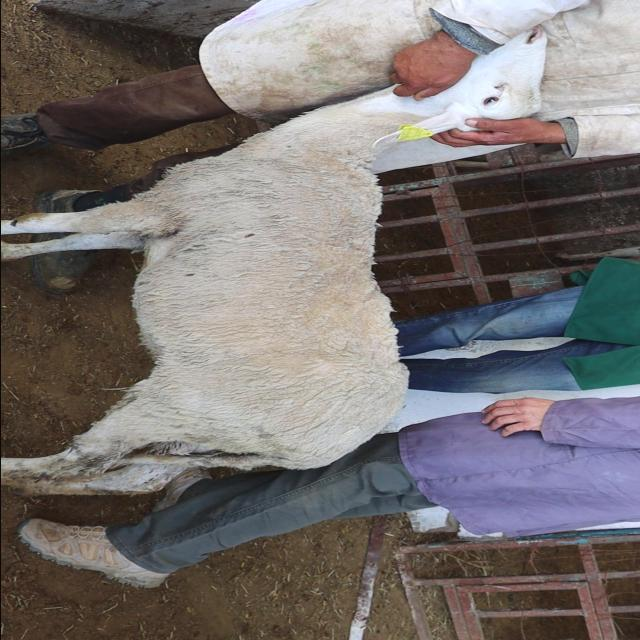Score_1: (1, 27, 546, 495)
